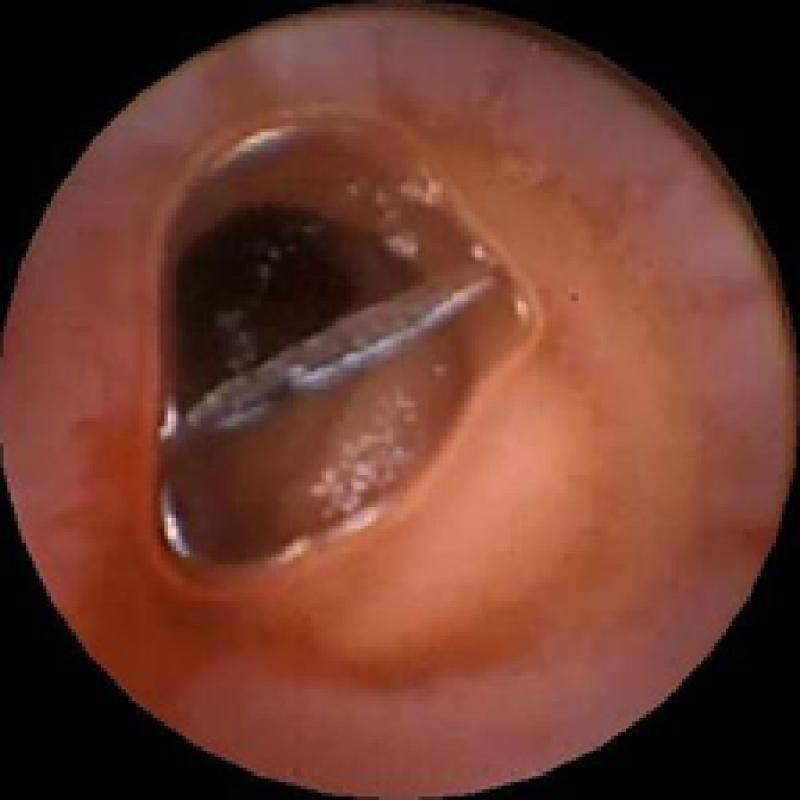bleeding: (157, 404, 489, 689)
